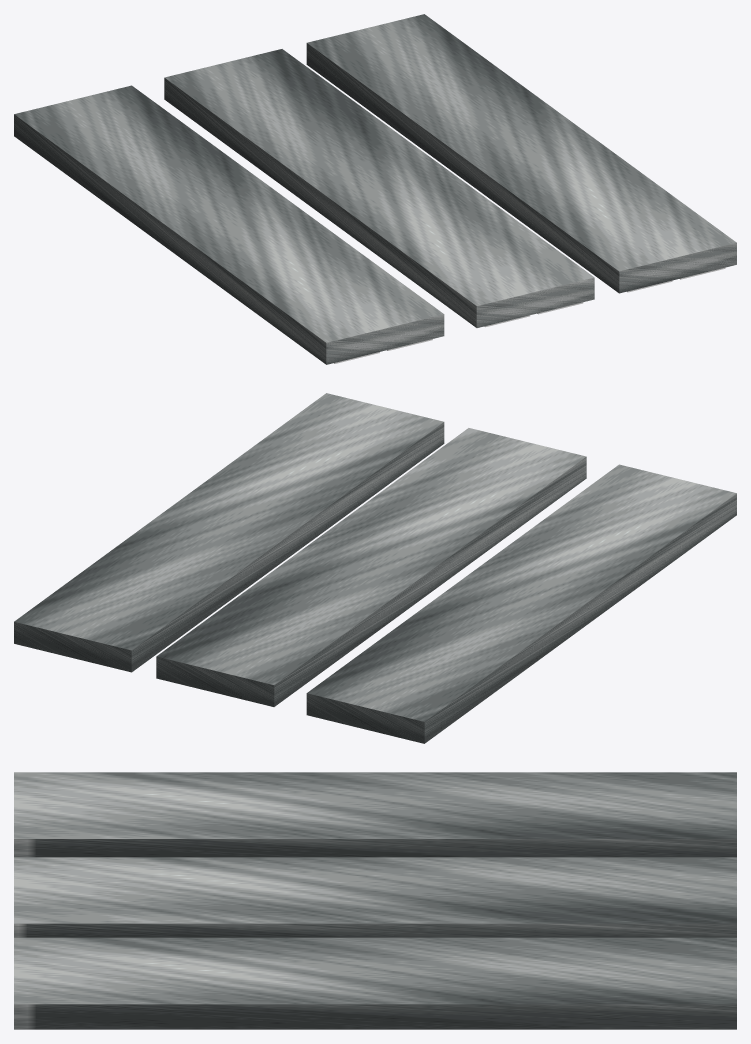
File: lamparas.fbx
The picture shows the model from 3 angles, top to bottom: view 1: azimuth 30°, elevation 25°; view 2: azimuth 150°, elevation 25°; view 3: azimuth 270°, elevation 25°; orthographic projection. The views are drawn at different scales.
Visible parts, largest first — view 1: Cube.007, Cube.014, Cube; view 2: Cube.007, Cube.014, Cube; view 3: Cube.007, Cube.014, Cube.
Boxes of the visible parts, left/top/right/bottom form: Cube.007: left=306, top=14, right=736, bottom=293; Cube.014: left=14, top=85, right=444, bottom=364; Cube: left=164, top=49, right=594, bottom=327; Cube.007: left=14, top=393, right=444, bottom=672; Cube.014: left=306, top=464, right=736, bottom=743; Cube: left=156, top=428, right=586, bottom=706; Cube.007: left=14, top=937, right=736, bottom=1029; Cube.014: left=14, top=772, right=736, bottom=857; Cube: left=14, top=857, right=736, bottom=937.
Bounding box in the file's own units: 697 × 41.27 × 919.
Materials: 7 (1 with a texture image).
